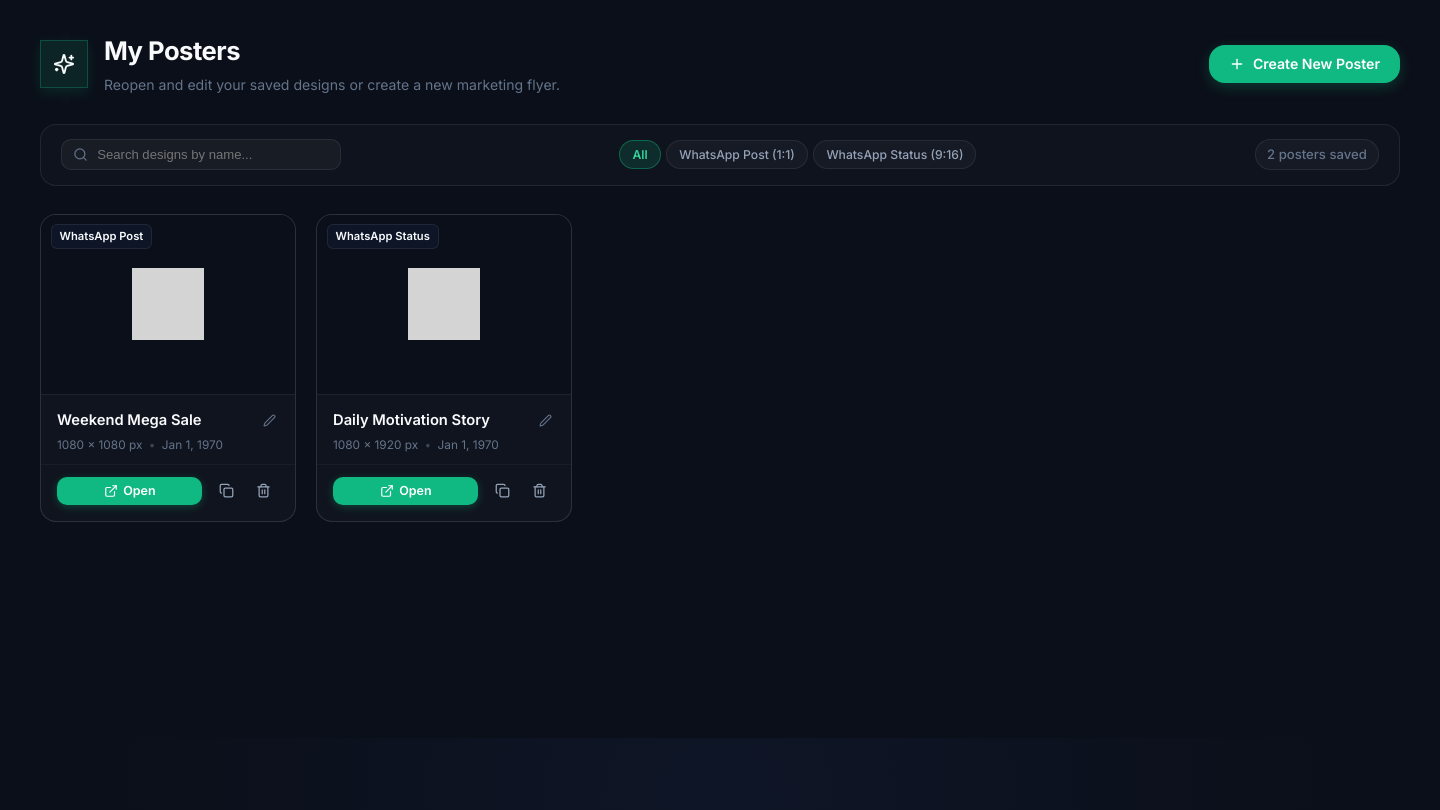
Test case: Phase 3B: Gallery-First Landing Screen Integration Tests › 3. Opening a Saved Poster to Edit › clicking a saved poster card opens it in the editor and preserves active design ID
The width and height of the screenshot is (1440, 810).
Expected: the heading "Weekend Mega Sale" is shown, [57, 409, 202, 431]
Click "Open" button on the card
Step 1. Click the button "Open" below "Weekend Mega Sale" → x=130, y=491, box [57, 477, 202, 505]
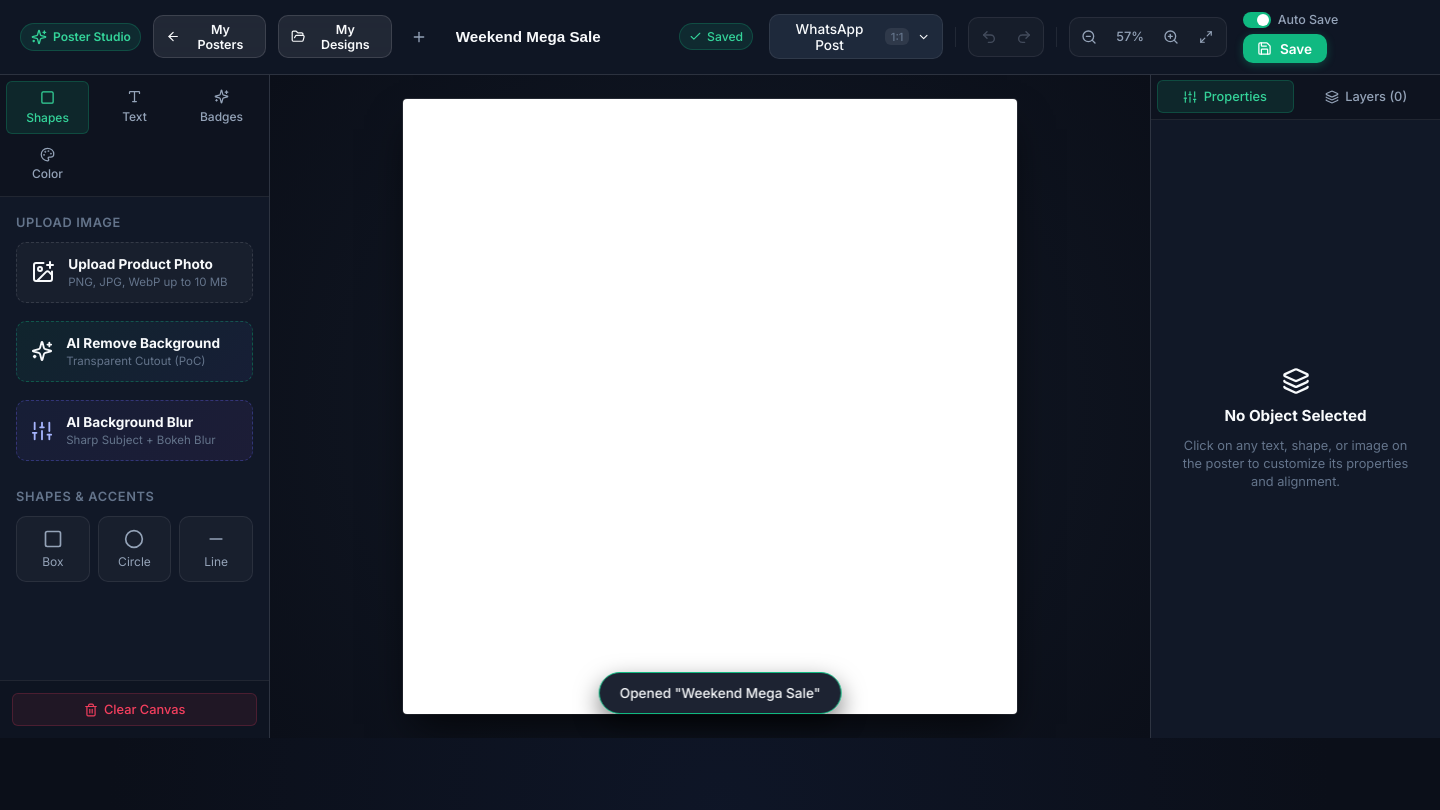
Expected: the button with aria-label "Back to My Posters" is shown, [154, 15, 266, 58]
Now the field named "Poster project title" holds "Weekend Mega Sale", box [447, 23, 667, 50]
